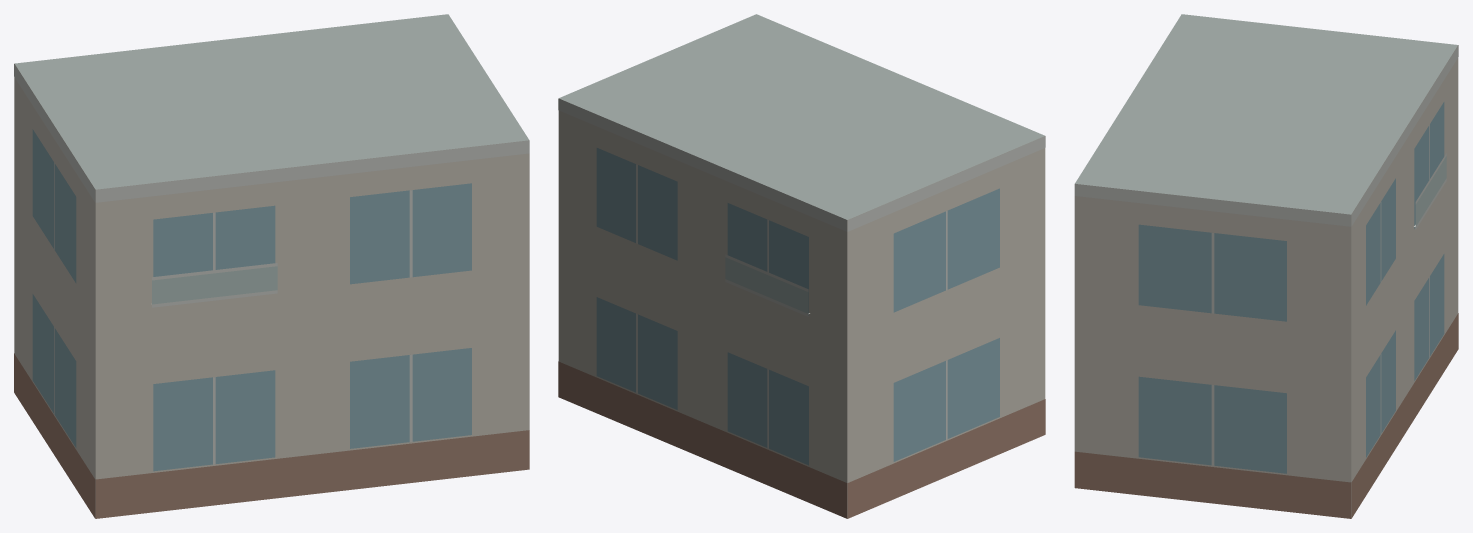
File: survey-upis-32487050.glb
The picture shows the model from 3 angles, left to right: view 1: azimuth 30°, elevation 25°; view 2: azimuth 150°, elevation 25°; view 3: azimuth 270°, elevation 25°; orthographic projection. The views are drawn at different scales.
Visible parts, largest first — view 1: survey-upis-32487050.tmp; view 2: survey-upis-32487050.tmp; view 3: survey-upis-32487050.tmp.
Part boxes in pixels (x1,y1,x2,y2): survey-upis-32487050.tmp: (14, 14, 529, 518); survey-upis-32487050.tmp: (558, 14, 1045, 518); survey-upis-32487050.tmp: (1074, 14, 1458, 518).
Bounding box in the file's own units: 8.63 × 6.1 × 6.98.
